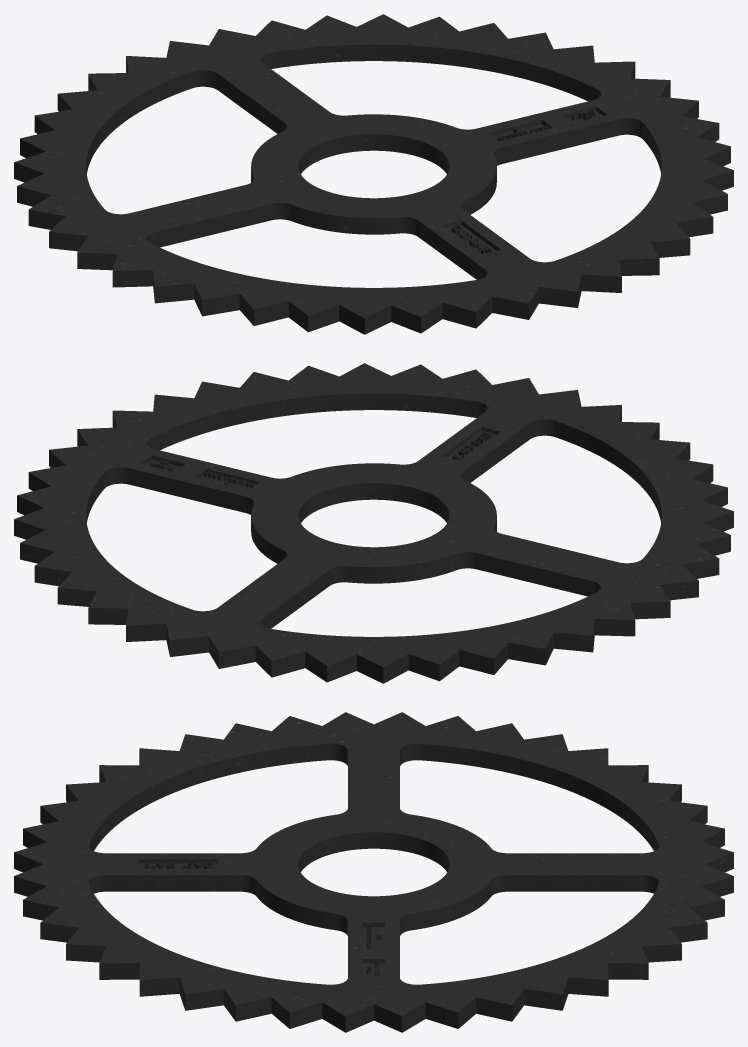
Rendered from 24-inch-plain-braker-ring.glb.
The picture shows the model from 3 angles, top to bottom: view 1: azimuth 30°, elevation 25°; view 2: azimuth 150°, elevation 25°; view 3: azimuth 270°, elevation 25°; orthographic projection.
Parts seen in each view (by area): view 1: 24 INCH PLAIN BRAKER RING_high; view 2: 24 INCH PLAIN BRAKER RING_high; view 3: 24 INCH PLAIN BRAKER RING_high.
Boxes of the visible parts, left/top/right/bottom form: 24 INCH PLAIN BRAKER RING_high: left=14, top=14, right=733, bottom=334; 24 INCH PLAIN BRAKER RING_high: left=14, top=363, right=733, bottom=683; 24 INCH PLAIN BRAKER RING_high: left=14, top=712, right=733, bottom=1032.
Bounding box in the file's own units: 0.6311 × 0.016 × 0.6311.
Materials: 1 (1 with a texture image).
